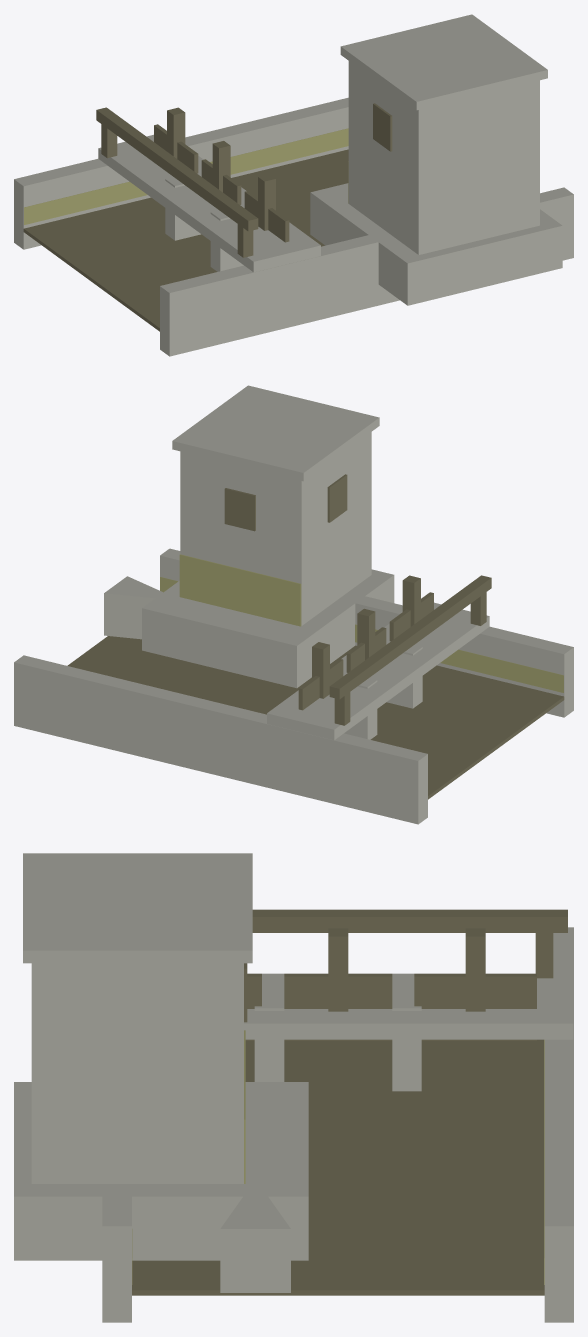
File: SM_CasetaCompuertas_v1_Abiertas_LOD1.fbx
The picture shows the model from 3 angles, top to bottom: view 1: azimuth 30°, elevation 25°; view 2: azimuth 150°, elevation 25°; view 3: azimuth 270°, elevation 25°; orthographic projection. The views are drawn at different scales.
Visible parts, largest first — view 1: SM_bloques.caseta_compuertas_v1_LOD1; view 2: SM_bloques.caseta_compuertas_v1_LOD1; view 3: SM_bloques.caseta_compuertas_v1_LOD1.
Boxes of the visible parts, box(x1,y1,x2,y2) form: SM_bloques.caseta_compuertas_v1_LOD1: box(14, 14, 573, 356); SM_bloques.caseta_compuertas_v1_LOD1: box(14, 385, 573, 824); SM_bloques.caseta_compuertas_v1_LOD1: box(14, 853, 573, 1322).
Size of the model in its own units: 12.1 by 6.24 by 9.5.
